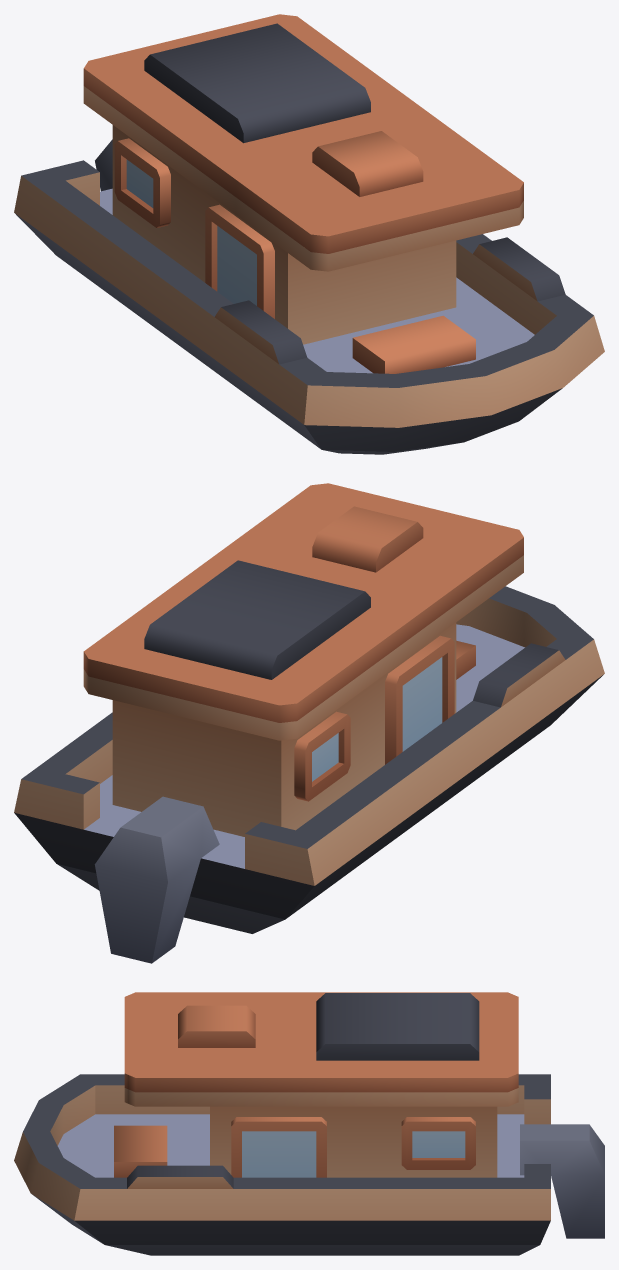
The model's file is boat-house-b.glb.
The picture shows the model from 3 angles, top to bottom: view 1: azimuth 30°, elevation 25°; view 2: azimuth 150°, elevation 25°; view 3: azimuth 270°, elevation 25°; orthographic projection. The views are drawn at different scales.
Parts seen in each view (by area): view 1: boat-house-b; view 2: boat-house-b; view 3: boat-house-b.
Part boxes in pixels (bbox=[...]): boat-house-b: bbox=[14, 14, 604, 454]; boat-house-b: bbox=[14, 483, 604, 963]; boat-house-b: bbox=[14, 992, 604, 1255].
Bounding box in the file's own units: 2.68 × 2.2 × 5.55.
